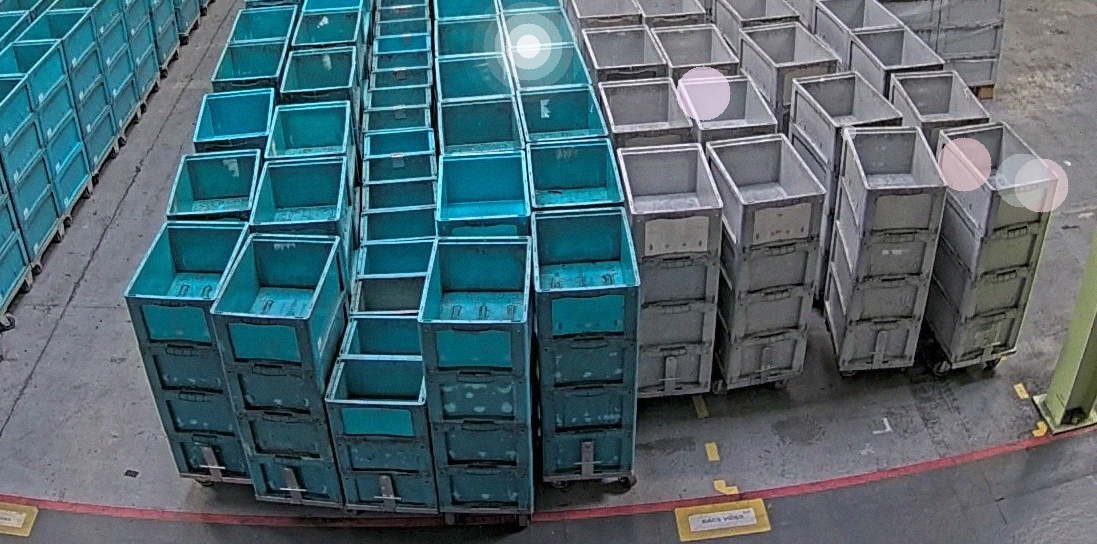4G: (925, 118, 1060, 363), (703, 133, 828, 386), (822, 126, 948, 368), (615, 142, 725, 395)
B4: (210, 230, 351, 506), (416, 234, 537, 511), (122, 221, 251, 480), (528, 207, 641, 478)
B8: (323, 314, 440, 510)
